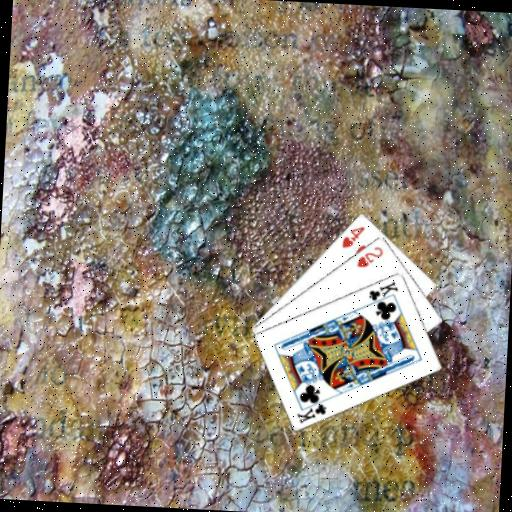2H: (354, 242, 385, 270)
4H: (339, 222, 367, 250)
KC: (366, 277, 401, 309), (294, 394, 329, 426)
